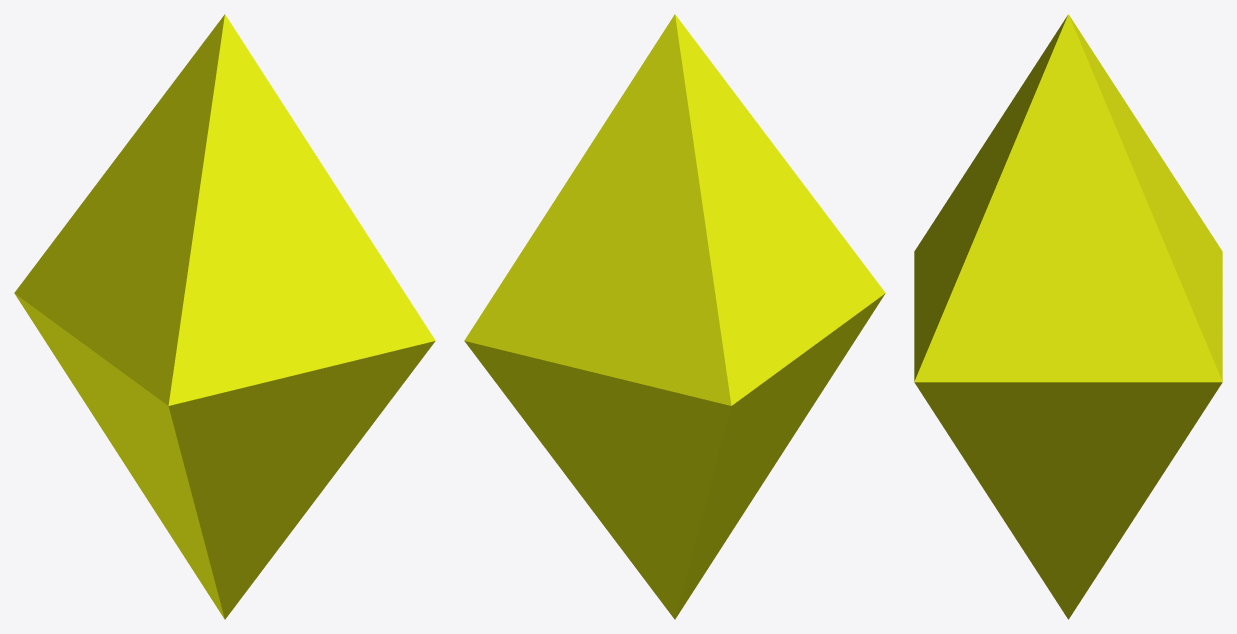
The model's file is Octahedron.FBX.
3 renders of one model, left to right at view 1: azimuth 30°, elevation 25°; view 2: azimuth 150°, elevation 25°; view 3: azimuth 270°, elevation 25°, orthographic.
Parts seen in each view (by area): view 1: Hedra001; view 2: Hedra001; view 3: Hedra001.
Part boxes in pixels (<box>): Hedra001: <box>14,14,435,619</box>; Hedra001: <box>464,14,885,619</box>; Hedra001: <box>914,14,1222,619</box>.
Size of the model in its own units: 1.41 by 3.06 by 1.41.
1 material, 1 textured.
